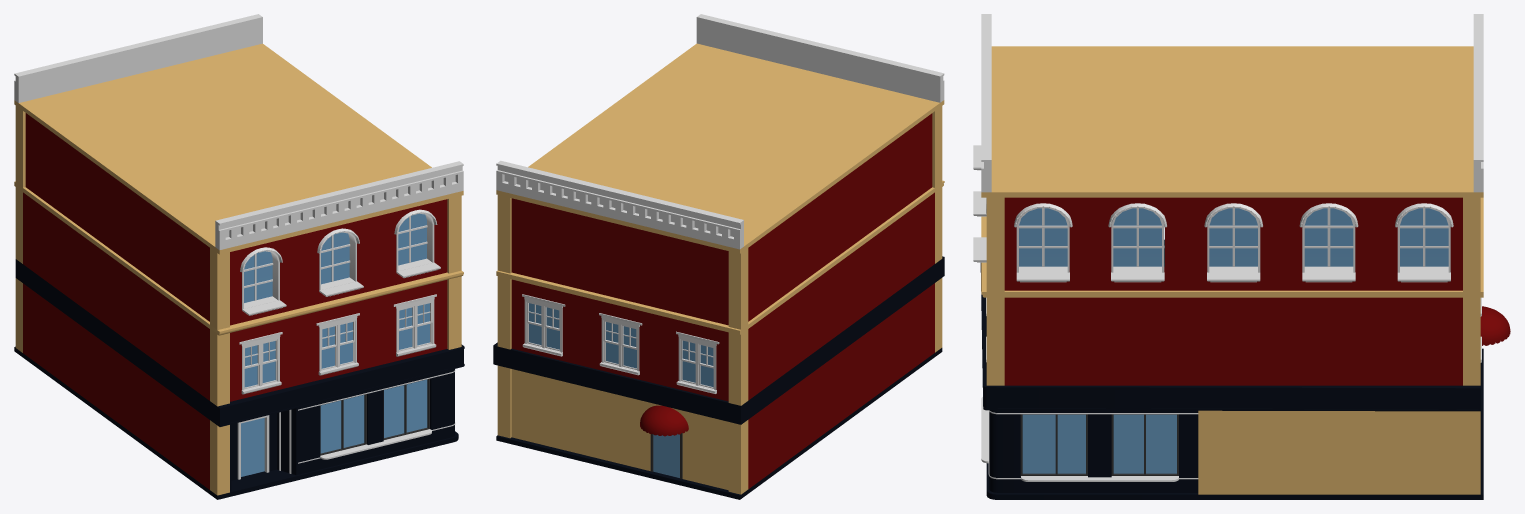
File: Building_F.fbx
3 views of the same model, side by side, from view 1: azimuth 30°, elevation 25°; view 2: azimuth 150°, elevation 25°; view 3: azimuth 270°, elevation 25° (orthographic). The views are drawn at different scales.
Visible parts, largest first — view 1: Building_F; view 2: Building_F; view 3: Building_F.
Part boxes in pixels (<box>): Building_F: <box>14,14,464,499</box>; Building_F: <box>493,14,944,499</box>; Building_F: <box>973,14,1510,499</box>.
Size of the model in its own units: 187 by 195 by 280.
